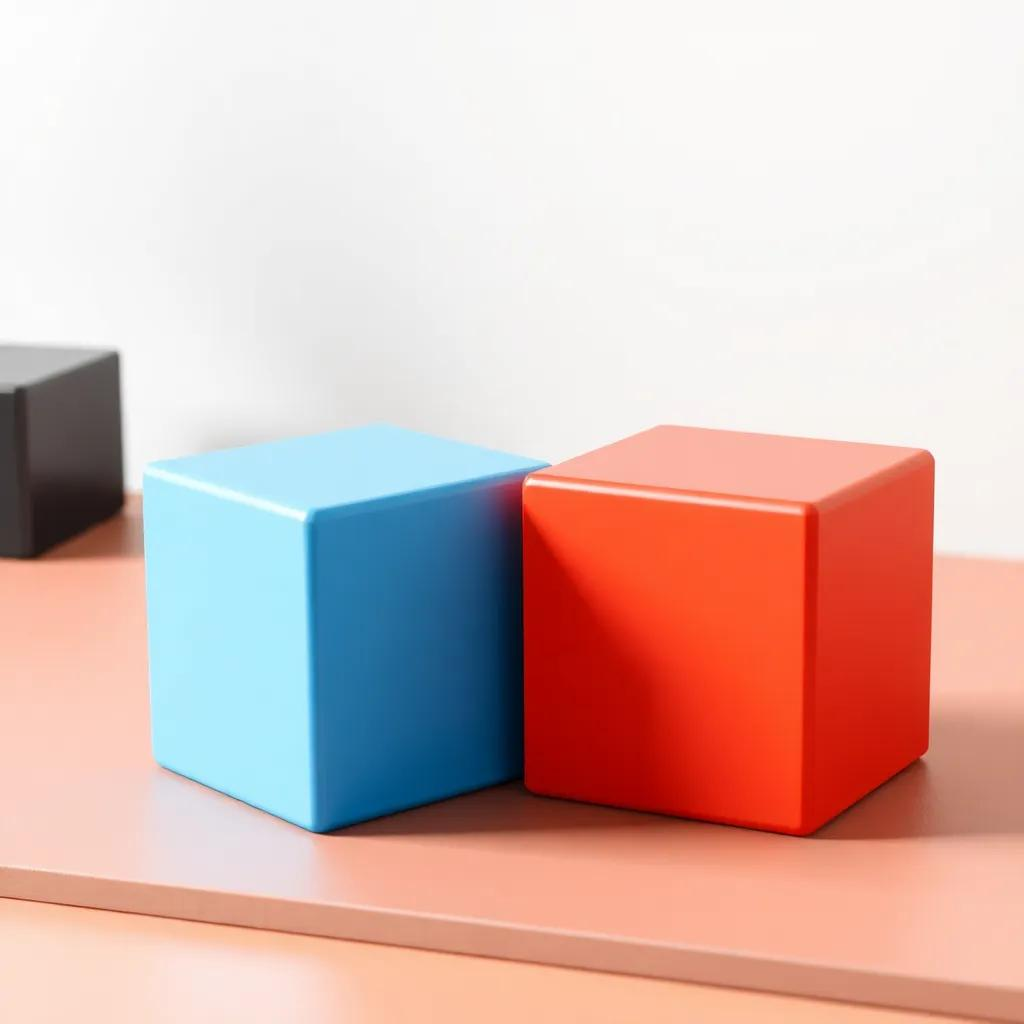cube: (520, 421, 935, 836), (141, 420, 551, 834)
